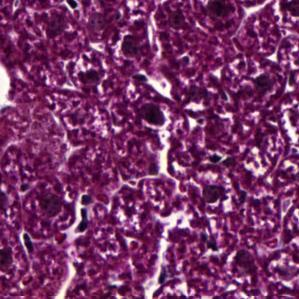inflammation: (67, 59, 106, 90), (138, 99, 173, 132), (201, 179, 225, 211)
